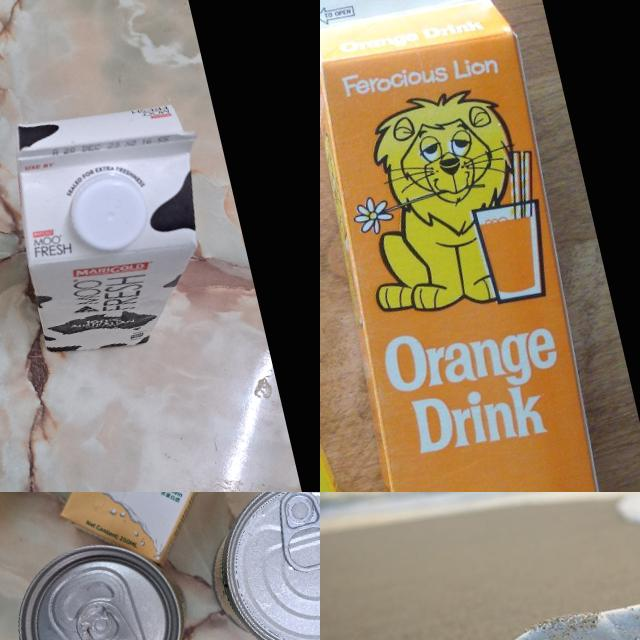aba de lata: (270, 492, 320, 575), (72, 591, 151, 640)
caixinha: (320, 0, 640, 492), (0, 84, 239, 366), (320, 4, 385, 492), (18, 492, 312, 582)
garrafa plástica: (465, 557, 640, 640)
lata: (2, 524, 200, 640), (188, 492, 320, 640)
tampa plástica: (62, 166, 156, 260)
